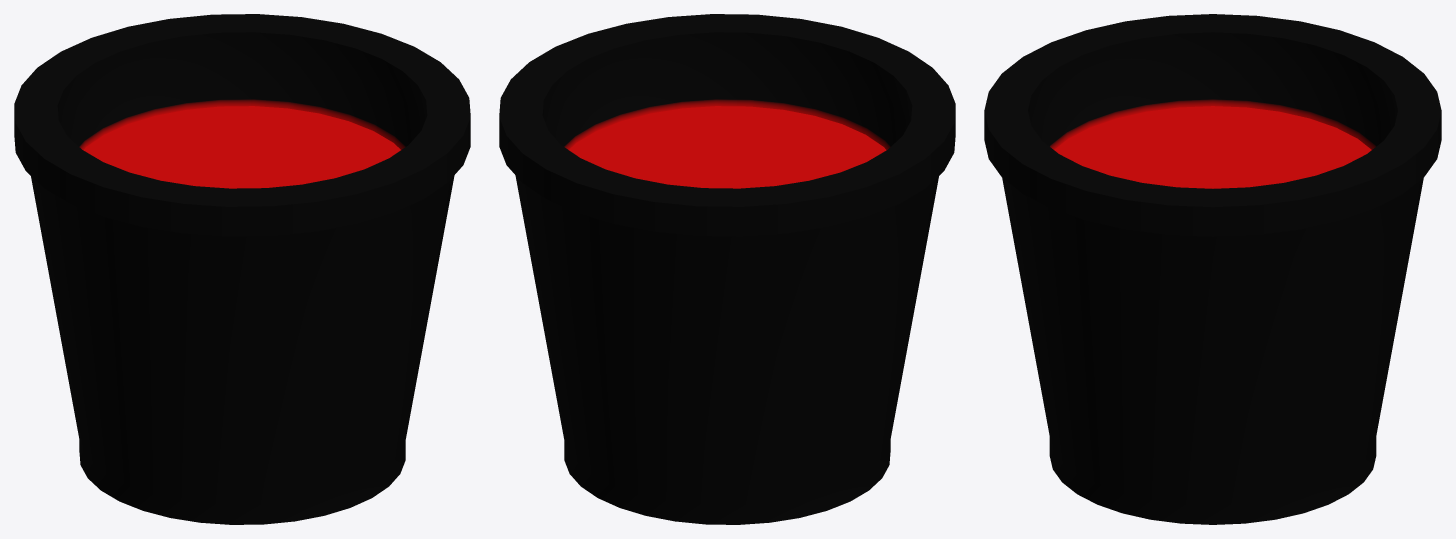
Rendered from Pot.fbx.
3 renders of one model, left to right at view 1: azimuth 30°, elevation 25°; view 2: azimuth 150°, elevation 25°; view 3: azimuth 270°, elevation 25°, orthographic.
Visible parts, largest first — view 1: Pot; view 2: Pot; view 3: Pot.
Part boxes in pixels (left/top/right/bottom): Pot: left=14, top=14, right=470, bottom=524; Pot: left=499, top=14, right=955, bottom=524; Pot: left=984, top=14, right=1441, bottom=524.
Bounding box in the file's own units: 42 × 35 × 42.
